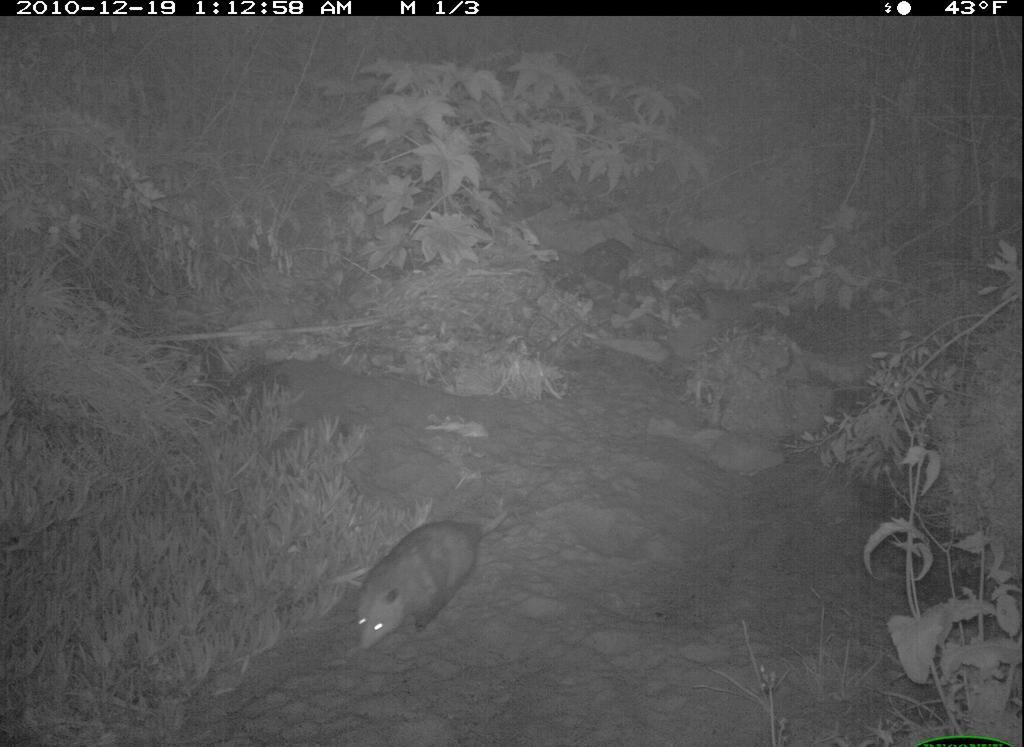opossum: (326, 483, 513, 655)
